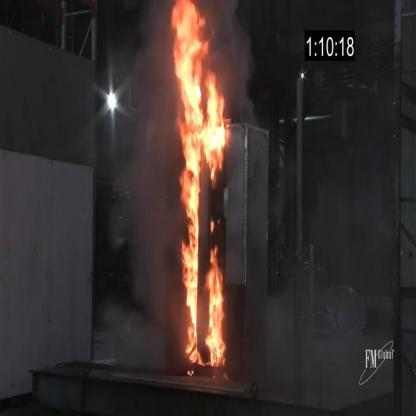fire: (158, 2, 242, 376)
